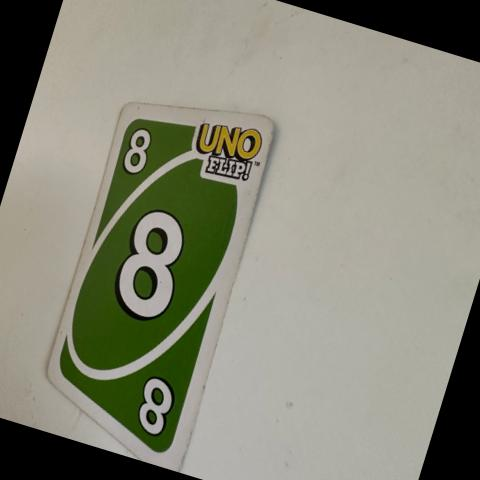lgreen-8: (104, 108, 174, 192)
